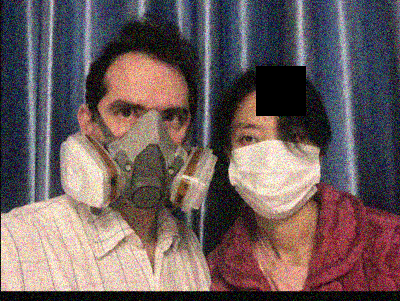with_mask: (92, 96, 191, 214), (227, 119, 321, 219)
